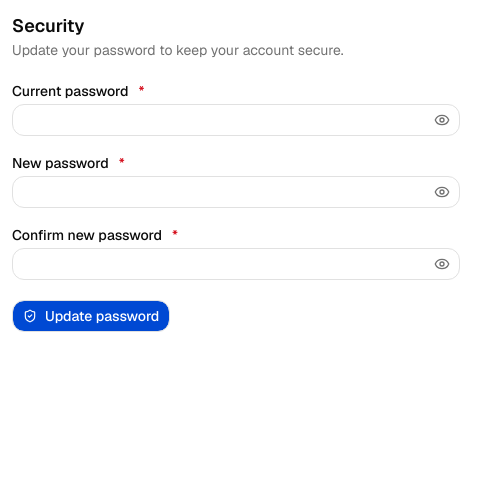
Test: SecuritySettingsPage › shows field error when current password is incorrect
Type "WrongPass1" into the password field labelled "Current password". click: point(236, 120)
box: x1=12 y1=104 x2=460 y2=136
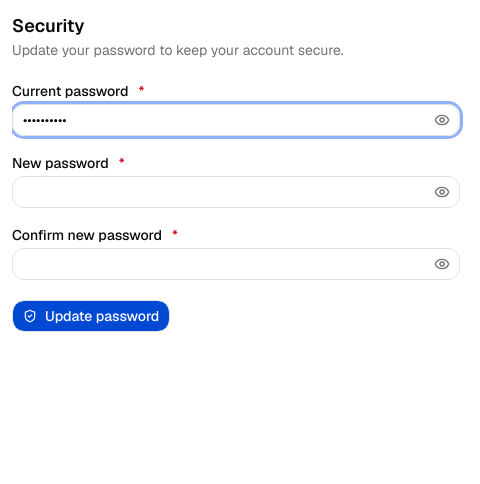
Type "NewPass1" into the password field labelled "New password". click: point(236, 192)
box: x1=12 y1=176 x2=460 y2=208
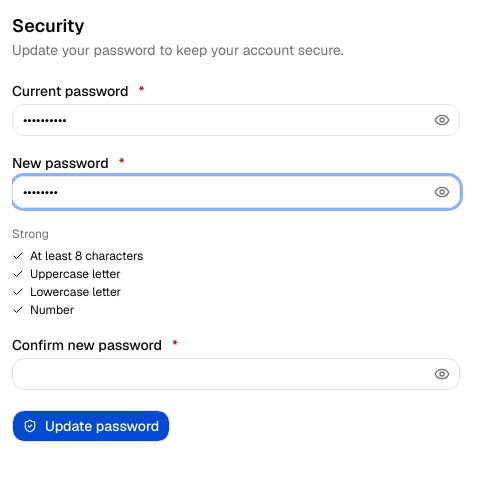
Type "NewPass1" into the password field labelled "Confirm new password". click: point(236, 374)
box: x1=12 y1=358 x2=460 y2=390
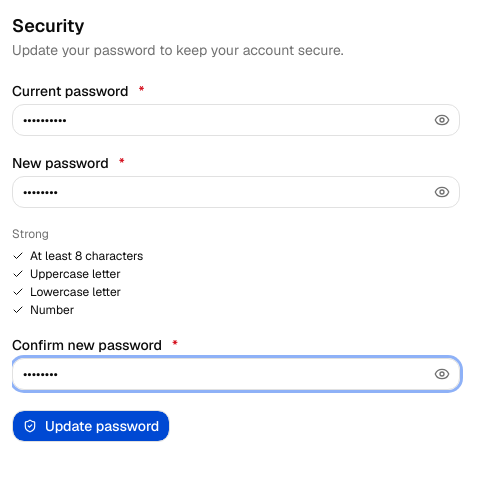
Click the button "Update password". click: point(91, 426)
box: x1=12 y1=410 x2=170 y2=442
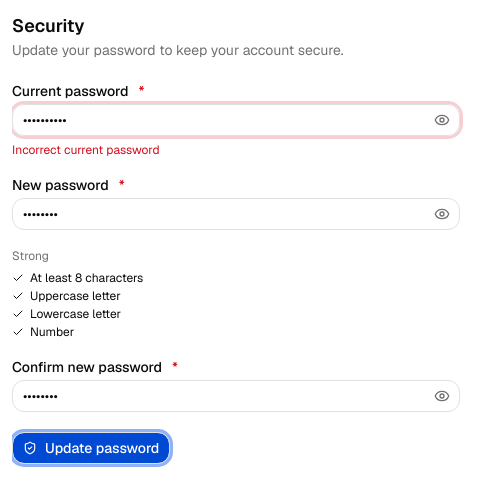
Expected: the text "Incorrect current password" is shown, x1=12 y1=142 x2=160 y2=158
